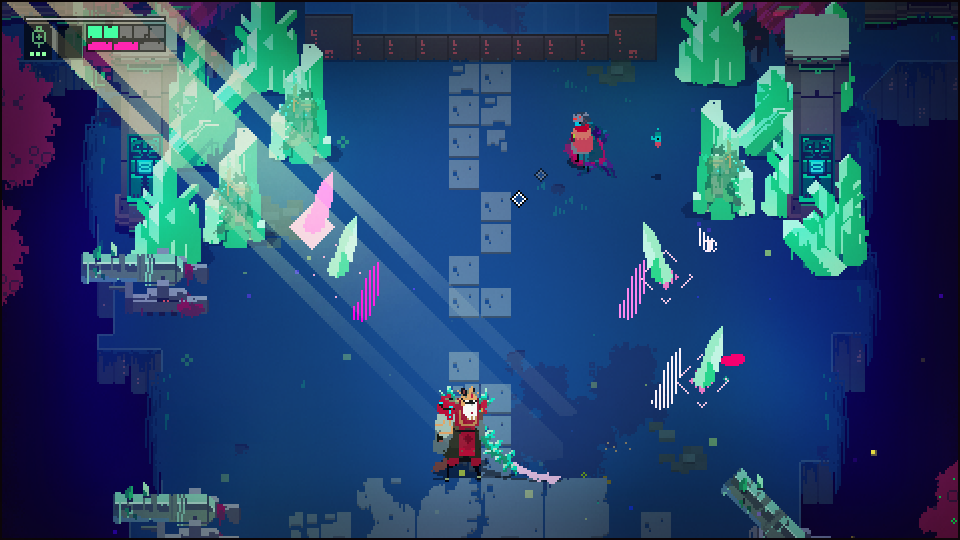hanged_crys: (691, 325, 730, 389), (329, 212, 361, 279), (642, 224, 675, 284), (309, 170, 335, 235)
hanged_man: (430, 382, 526, 494)
player: (571, 109, 597, 174)
